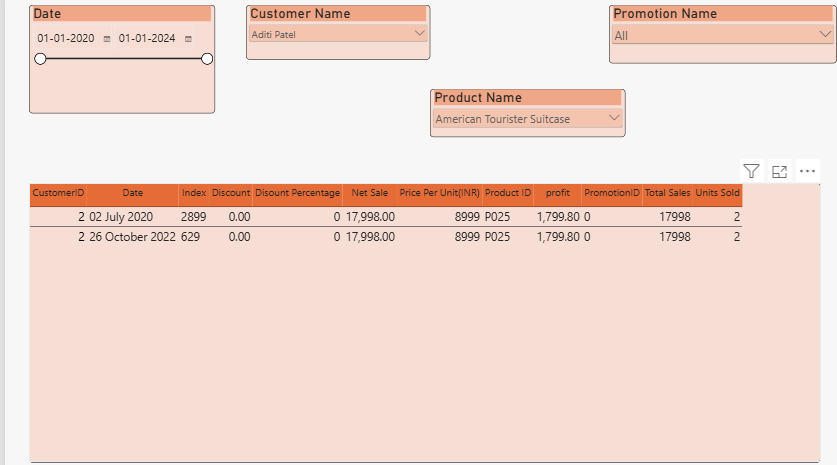

Layout of this report page (visuals, bound fields, positions):
{"tool":"powerbi","page":{"name":"Table Visual","canvas":[1920,1080],"ordinal":4},"visuals":[{"type":"tableEx","fields":{"Values":["Fact Table.CustomerID","Fact Table.Date (dd/mm/yyyy)","Fact Table.Index","Fact Table.Discount","Fact Table.Disount Percentage","Fact Table.Net Sale","Fact Table.Price Per Unit(INR)","Fact Table.Product ID","Fact Table.profit ","Fact Table.PromotionID","Fact Table.Total Sales","Fact Table.Units Sold"]},"box":[52,416,1710,604],"z":0},{"type":"slicer","fields":{"Values":["Date Table 1.Date"]},"box":[52,32,402,234],"z":1000},{"type":"slicer","fields":{"Values":["Dim Customers.Customer Name"]},"box":[520,32,398,118],"z":2000},{"type":"slicer","fields":{"Values":["Dim Product.Product Name"]},"box":[918,214,422,104],"z":2001},{"type":"slicer","fields":{"Values":["Dim Promotion.Promotion Name"]},"box":[1304,32,492,126],"z":2002}]}

Visuals, with their boxes in screenshot pixels (x1, y1, x2, y2), scaled from the page's 1920x1080 canvas onto the 837x465 screenshot:
tableEx - Fact Table.CustomerID x Fact Table.Date (dd/mm/yyyy): (left=23, top=179, right=768, bottom=439)
slicer - Date Table 1.Date: (left=23, top=14, right=198, bottom=115)
slicer - Dim Customers.Customer Name: (left=227, top=14, right=400, bottom=65)
slicer - Dim Product.Product Name: (left=400, top=92, right=584, bottom=137)
slicer - Dim Promotion.Promotion Name: (left=568, top=14, right=783, bottom=68)
